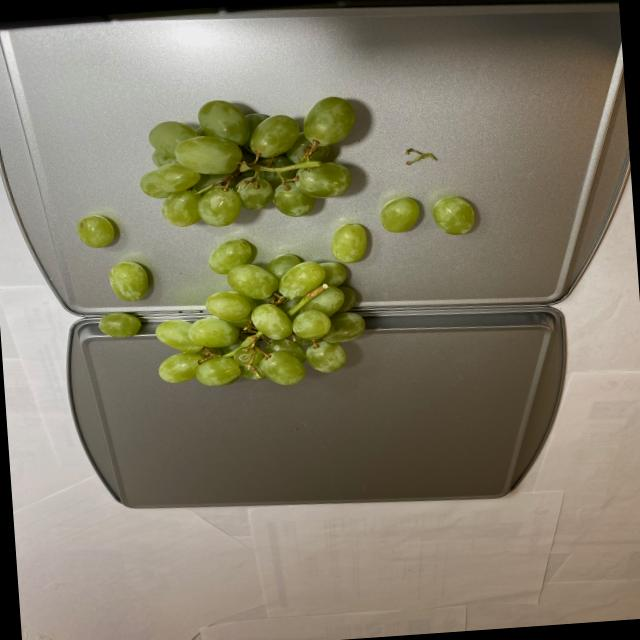grapes: (71, 79, 489, 397)
